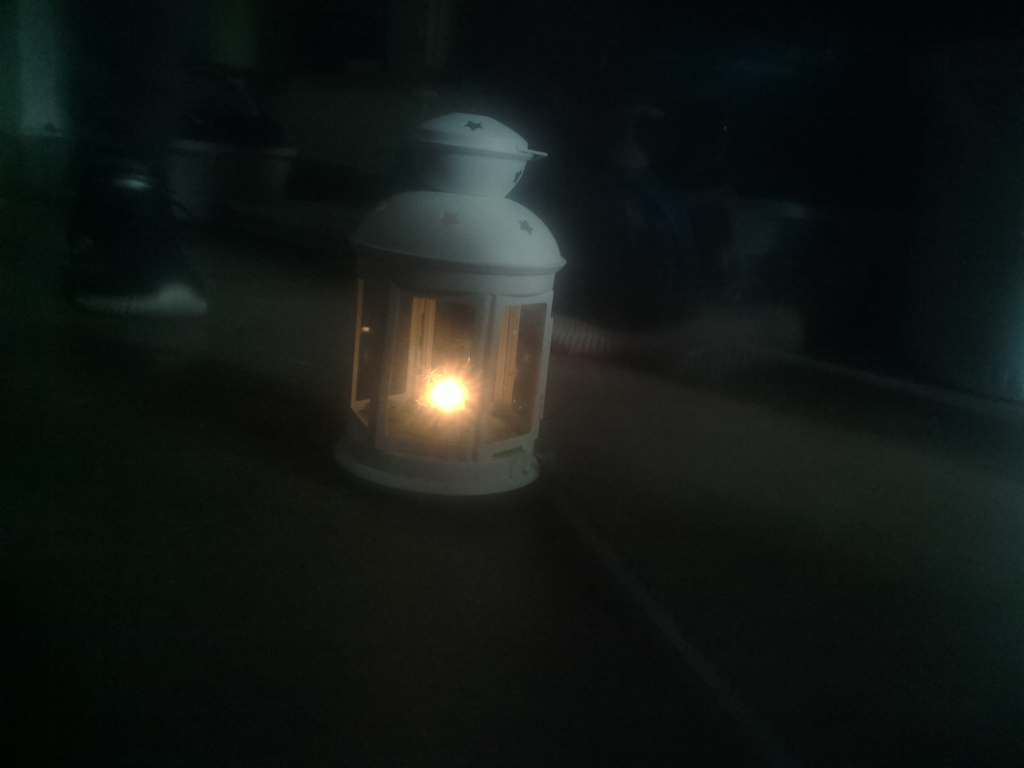fire: (399, 356, 512, 443)
